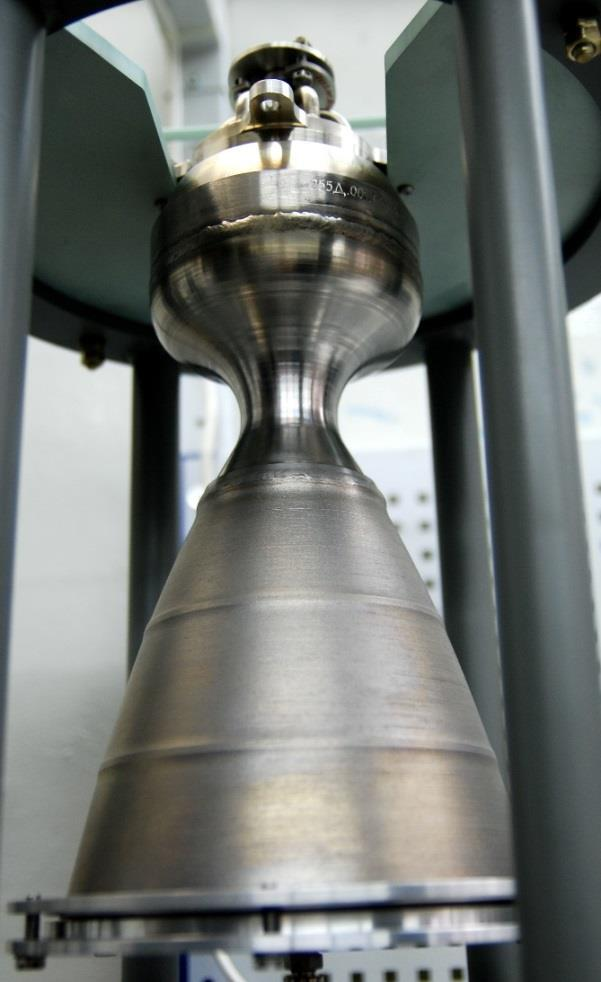thruster: (65, 423, 526, 956)
